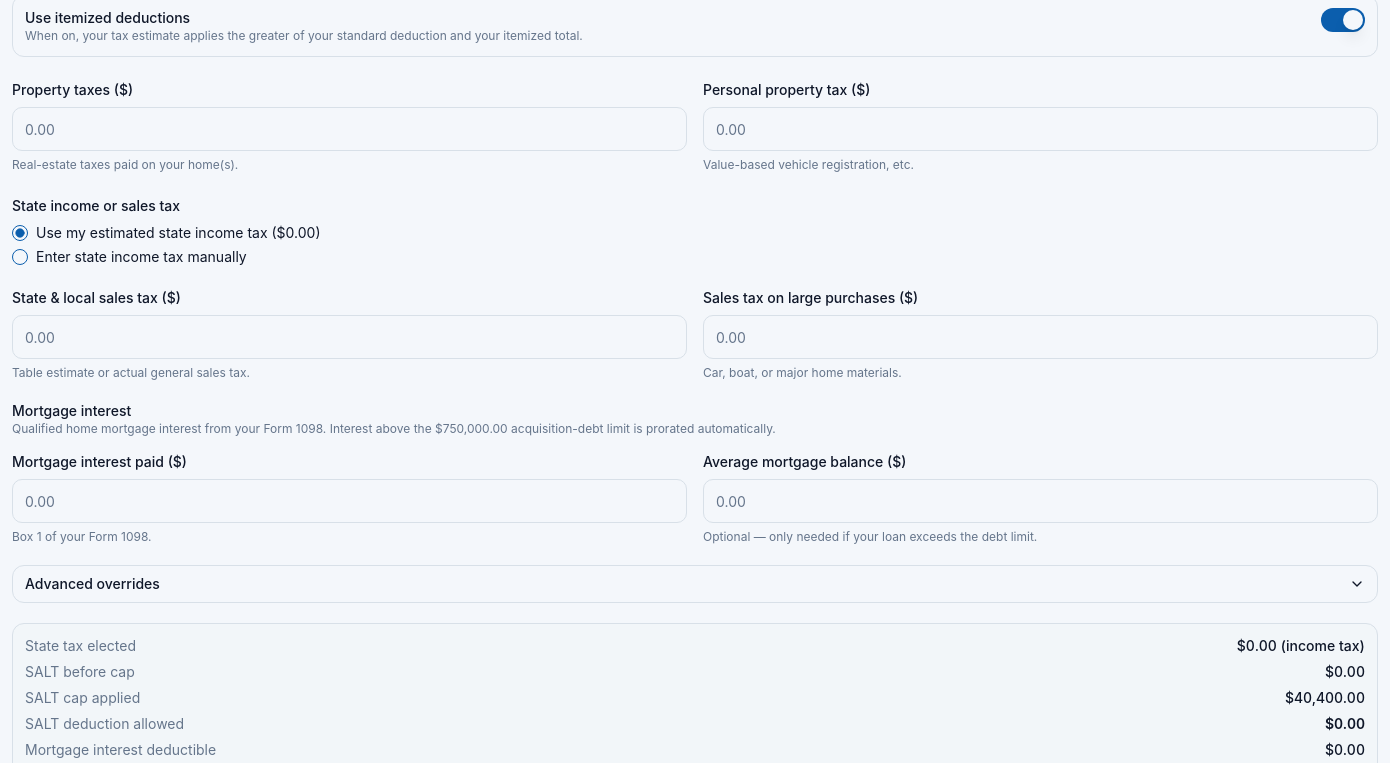
it: Itemized Deductions card validation + accessibility › rejects negative mortgage interest with an inline message and blocks save
Later steps or results of the test are not shown.
Type "-500" into the number field with test id "itemized-mortgageInterest" at coordinates (350, 501), box [12, 479, 687, 523]
(page scrolled)
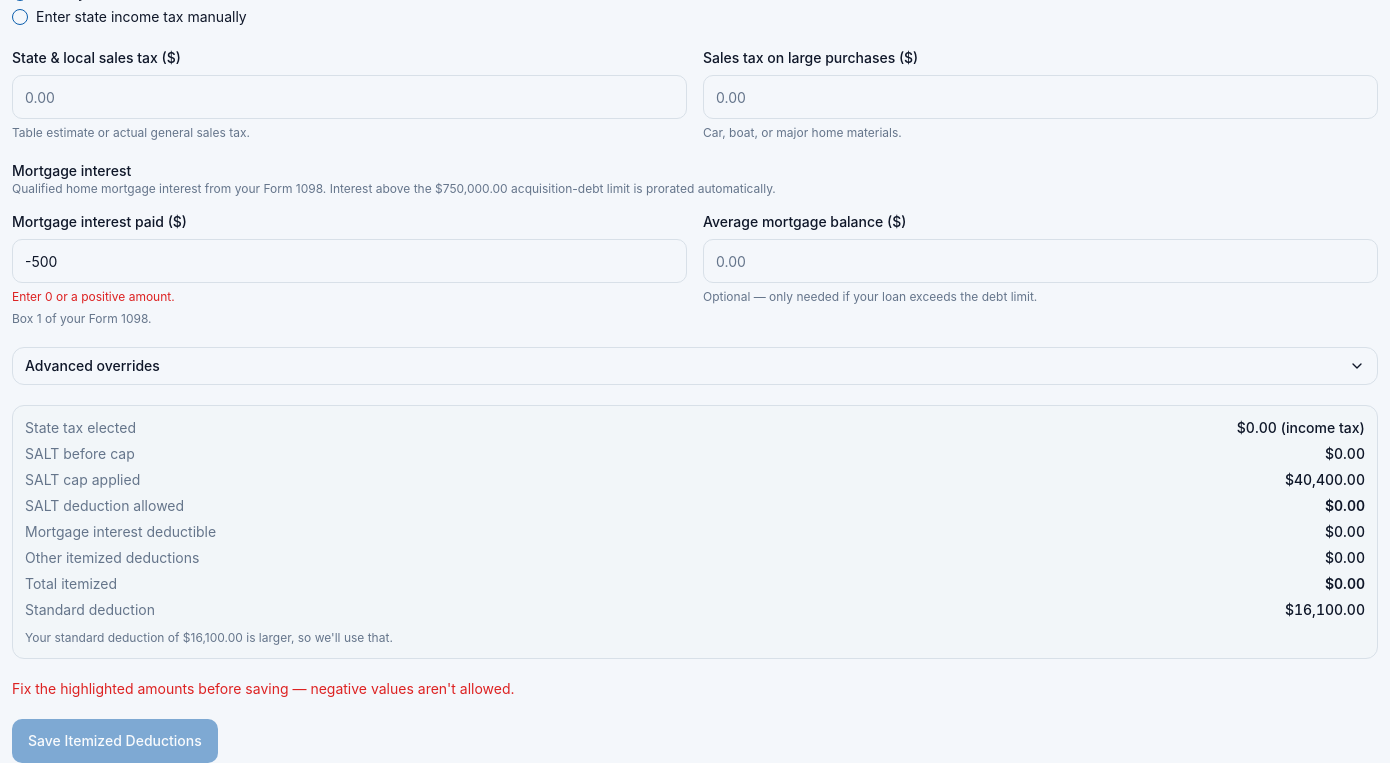
expect the message "Enter 0 or a positive amount." is shown: met, box [12, 289, 175, 304]
expect the button with test id "itemized-save" is disabled: met, box [12, 719, 218, 762]
